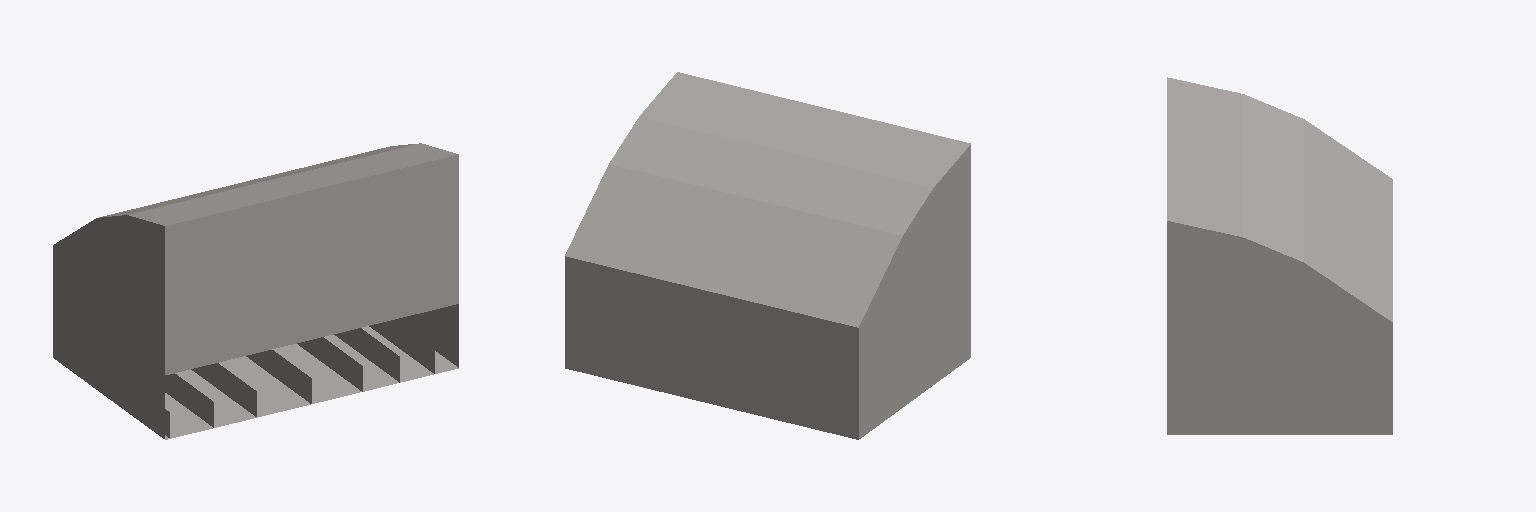
Rendered from back.obj.
3 views of the same model, side by side, from view 1: azimuth 30°, elevation 25°; view 2: azimuth 150°, elevation 25°; view 3: azimuth 270°, elevation 25° (orthographic).
Parts seen in each view (by area): view 1: Cube.019; view 2: Cube.019; view 3: Cube.019.
Part boxes in pixels (left/top/right/bottom): Cube.019: left=53, top=143, right=458, bottom=439; Cube.019: left=565, top=72, right=970, bottom=439; Cube.019: left=1167, top=77, right=1392, bottom=434.
Bounding box in the file's own units: 48.82 × 33.93 × 32.42.